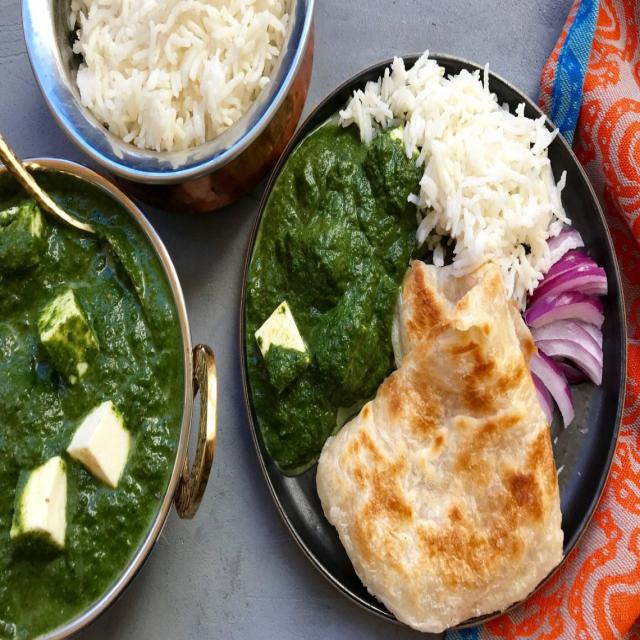Palak Paneer: (0, 175, 183, 640), (240, 116, 419, 478)
